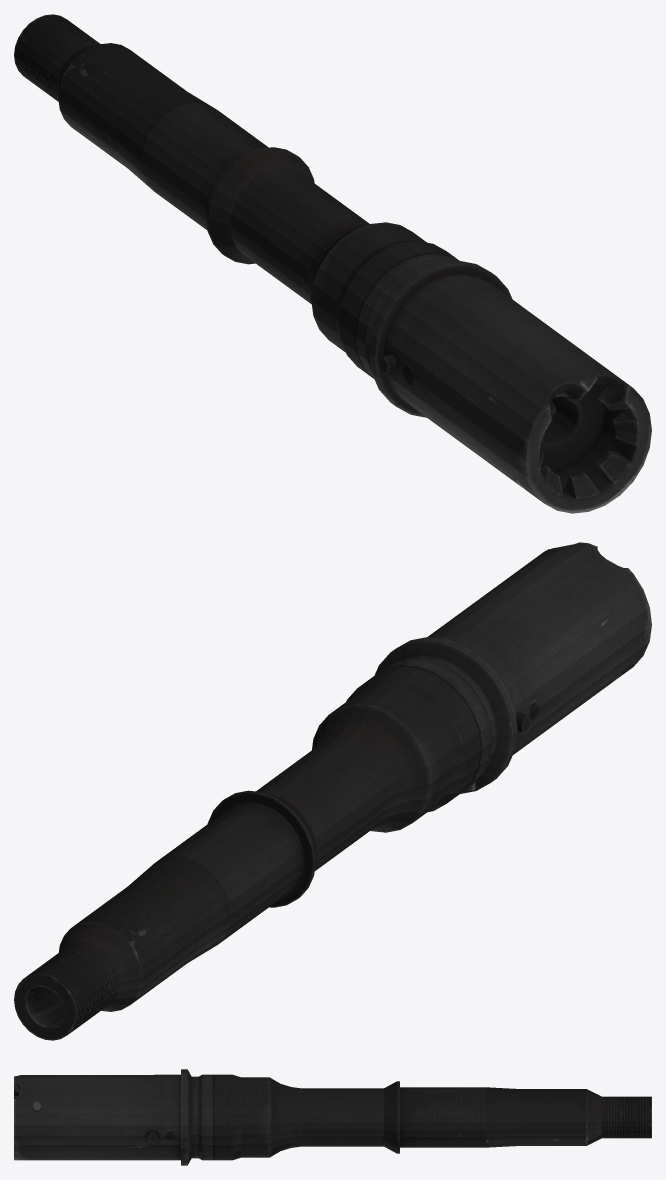
3 views of the same model, one above another, from view 1: azimuth 30°, elevation 25°; view 2: azimuth 150°, elevation 25°; view 3: azimuth 270°, elevation 25° (orthographic). The views are drawn at different scales.
Parts seen in each view (by area): view 1: TW_5fbbfabed5cb881a7363194e_PZ_Import; view 2: TW_5fbbfabed5cb881a7363194e_PZ_Import; view 3: TW_5fbbfabed5cb881a7363194e_PZ_Import.
Boxes of the visible parts, x1,y1,x2,y2 form: TW_5fbbfabed5cb881a7363194e_PZ_Import: (14, 14, 651, 513); TW_5fbbfabed5cb881a7363194e_PZ_Import: (14, 542, 651, 1040); TW_5fbbfabed5cb881a7363194e_PZ_Import: (14, 1069, 651, 1165).
Bounding box in the file's own units: 0.017 × 0.1114 × 0.0169.
1 material, 1 textured.
